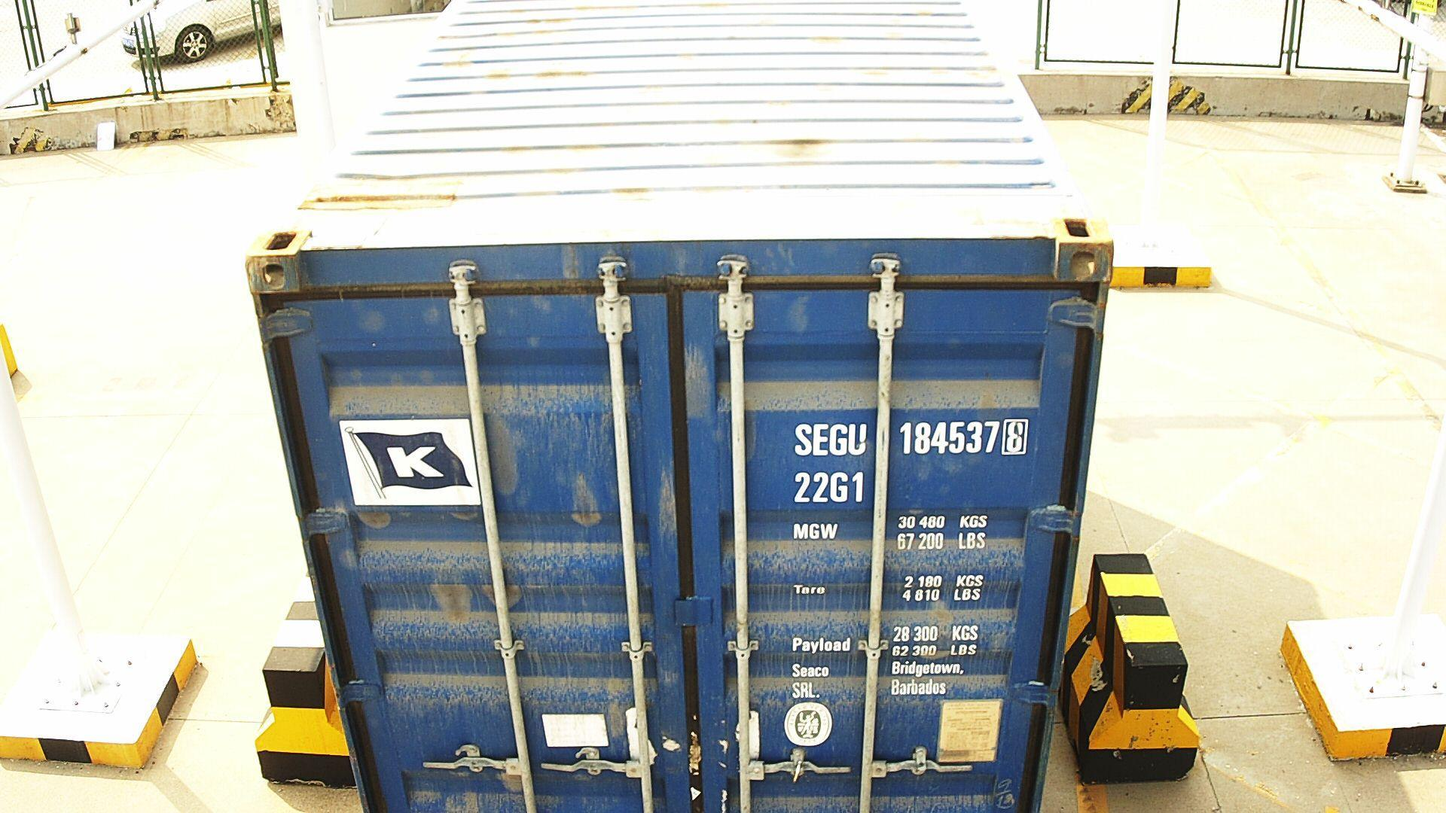container-numbers: (789, 415, 1030, 458), (791, 468, 868, 505)
